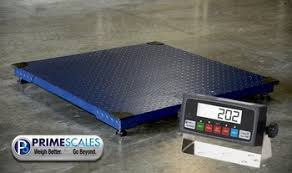Industrial Scale: (11, 41, 283, 170)
